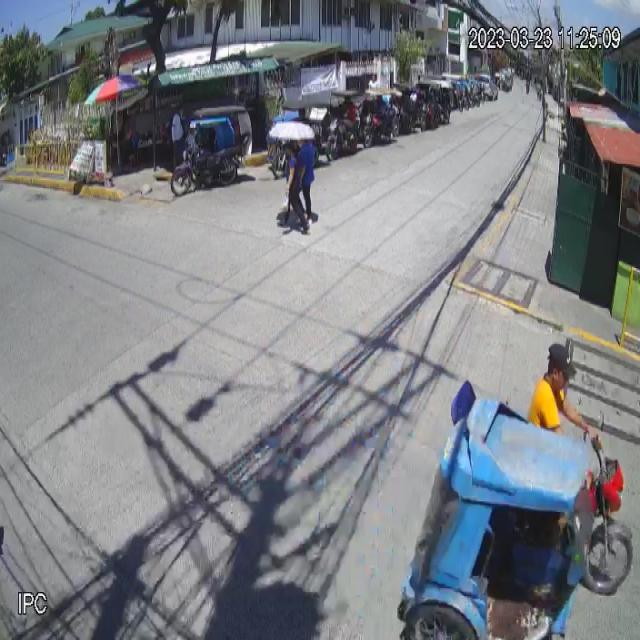Tricycle: (395, 378, 633, 640), (169, 103, 254, 197)
